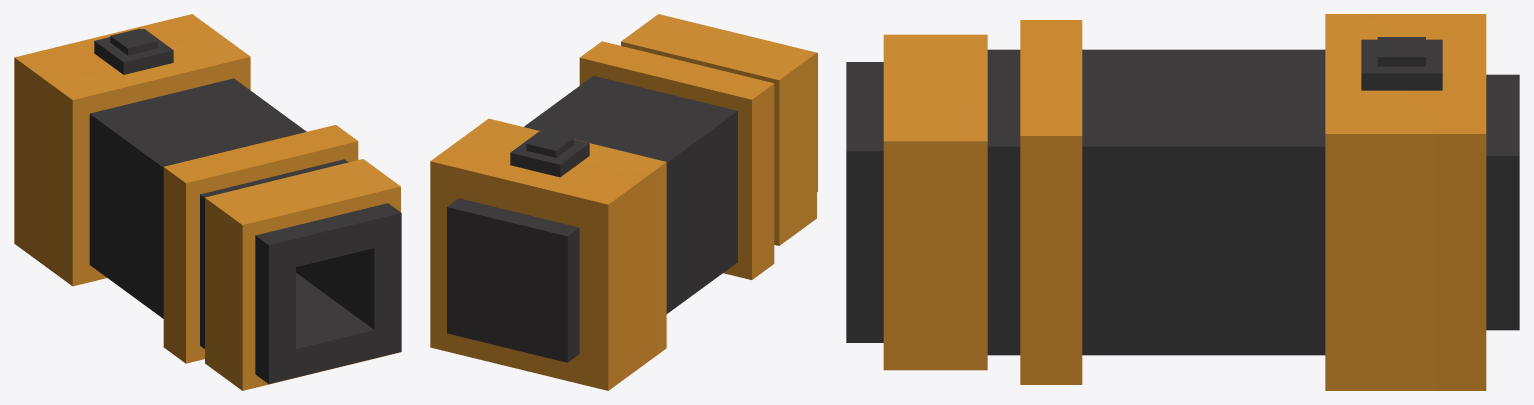
The model's file is Canon.fbx.
3 views of the same model, side by side, from view 1: azimuth 30°, elevation 25°; view 2: azimuth 150°, elevation 25°; view 3: azimuth 270°, elevation 25° (orthographic). The views are drawn at different scales.
Parts seen in each view (by area): view 1: Canon; view 2: Canon; view 3: Canon.
Boxes of the visible parts, x1,y1,x2,y2 form: Canon: (14, 14, 401, 390); Canon: (430, 14, 817, 390); Canon: (846, 14, 1519, 390).
Bounding box in the file's own units: 105 × 116 × 248.
